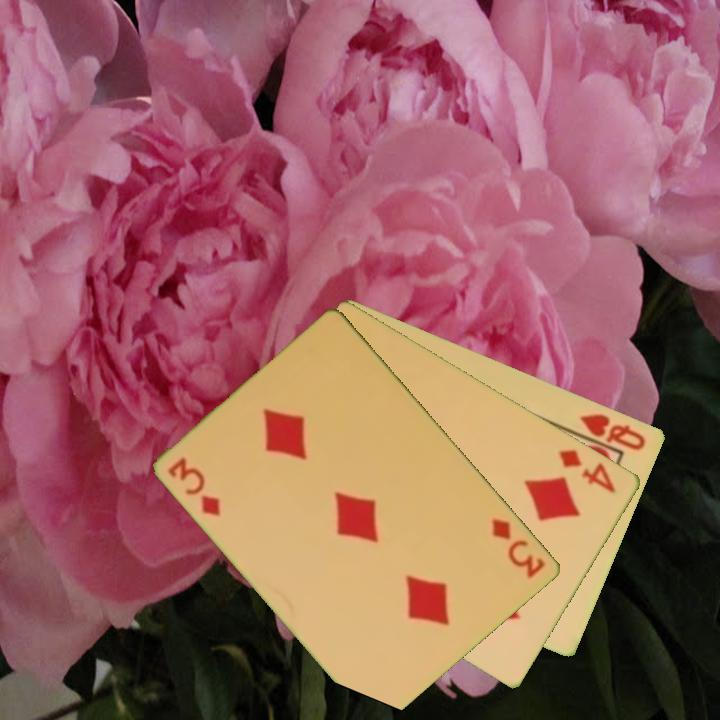3d: (164, 453, 225, 520), (488, 515, 549, 581)
4d: (556, 445, 619, 496)
Qh: (567, 409, 649, 455)
